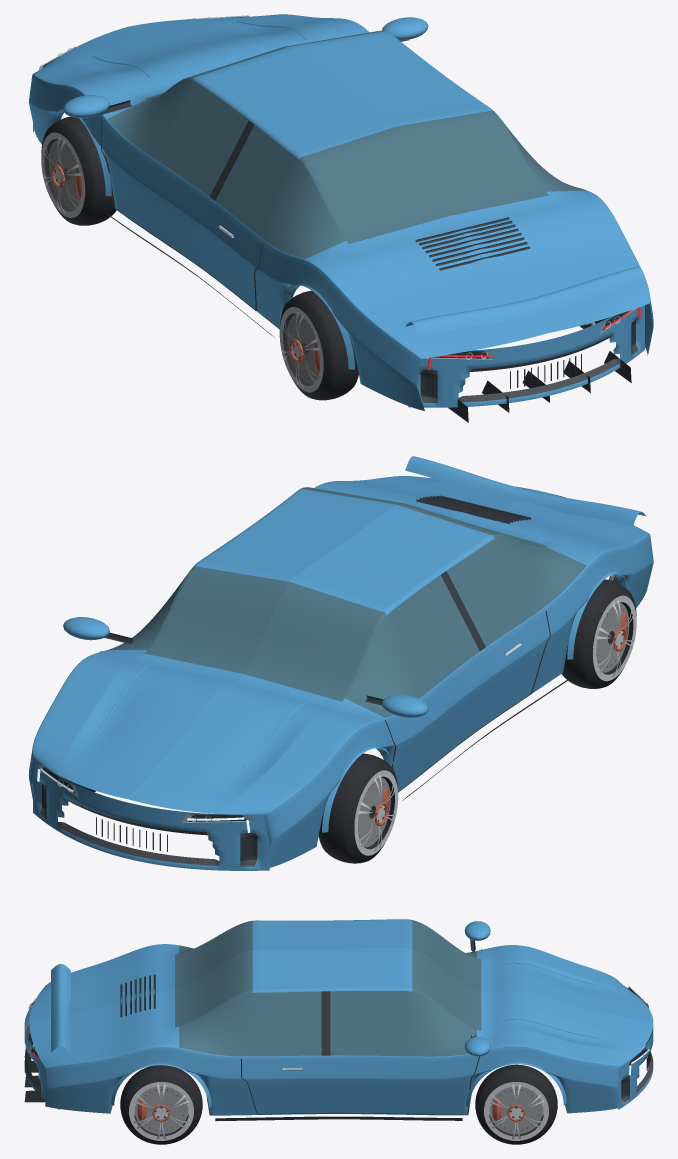
The model's file is solaris_v.glb.
The picture shows the model from 3 angles, top to bottom: view 1: azimuth 30°, elevation 25°; view 2: azimuth 150°, elevation 25°; view 3: azimuth 270°, elevation 25°; orthographic projection. The views are drawn at different scales.
Visible parts, largest first — view 1: Body, Wheel_2, Wheel_0; view 2: Body, Wheel_0, Wheel_2; view 3: Body, Wheel_1, Wheel_3.
Part boxes in pixels (x1,y1,x2,y2): Body: (28, 14, 653, 422); Wheel_2: (279, 290, 358, 400); Wheel_0: (41, 116, 116, 225); Body: (28, 456, 653, 870); Wheel_0: (318, 753, 398, 863); Wheel_2: (562, 579, 636, 688); Body: (24, 919, 653, 1121); Wheel_1: (475, 1064, 557, 1144); Wheel_3: (120, 1065, 202, 1144).
Bounding box in the file's own units: 2.49 × 1.27 × 5.2.
